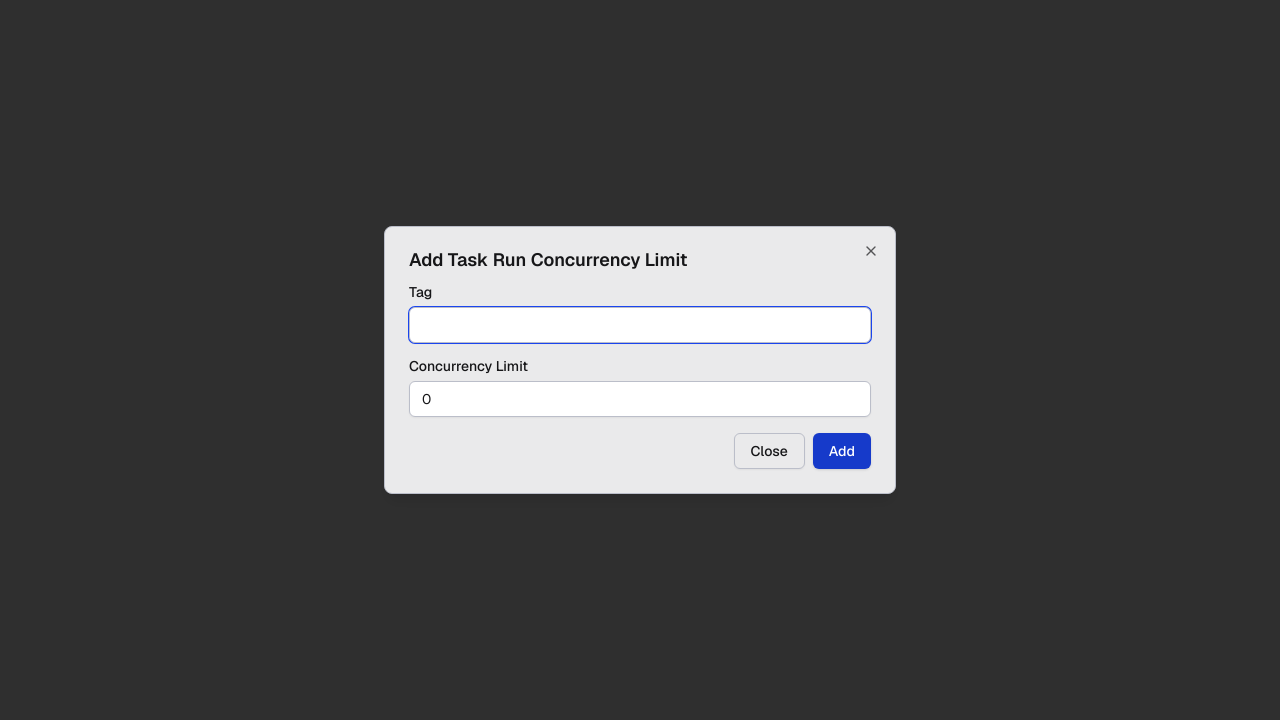
Scenario: TaskRunConcurrencyLimitsCreateDialog › shows validation error when concurrency limit is negative
Replace the text in the number field labelled "Concurrency Limit" with "-5": coordinates (640, 399) [409,381,871,417]
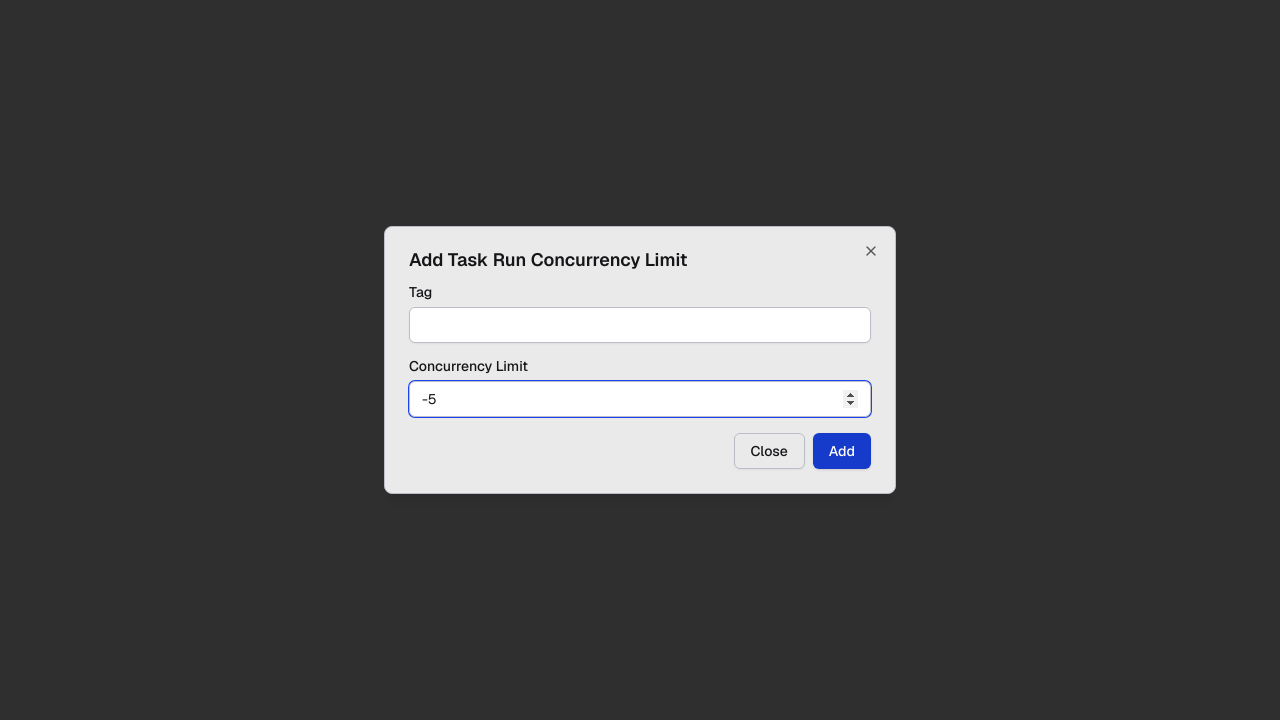
In the field labelled "Tag": coordinates (640, 325) [409,307,871,343], type "my-tag"
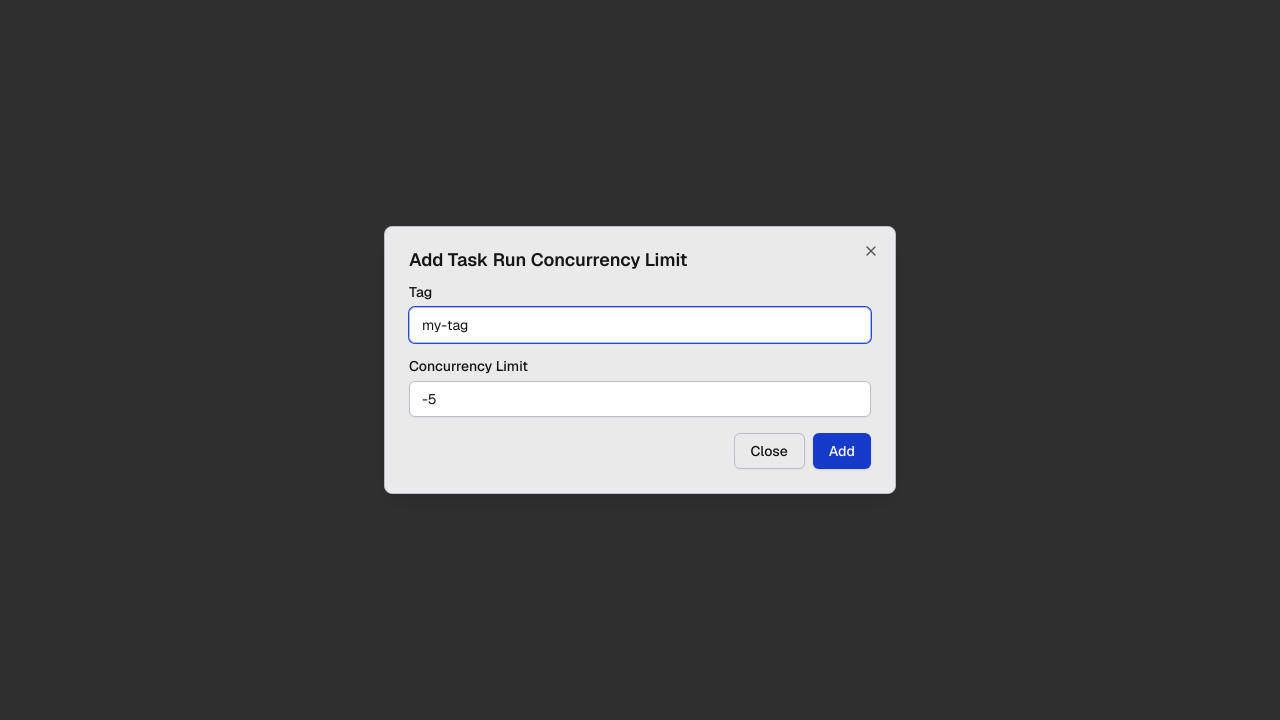
Click the button "Add": coordinates (842, 451) [813,433,871,469]
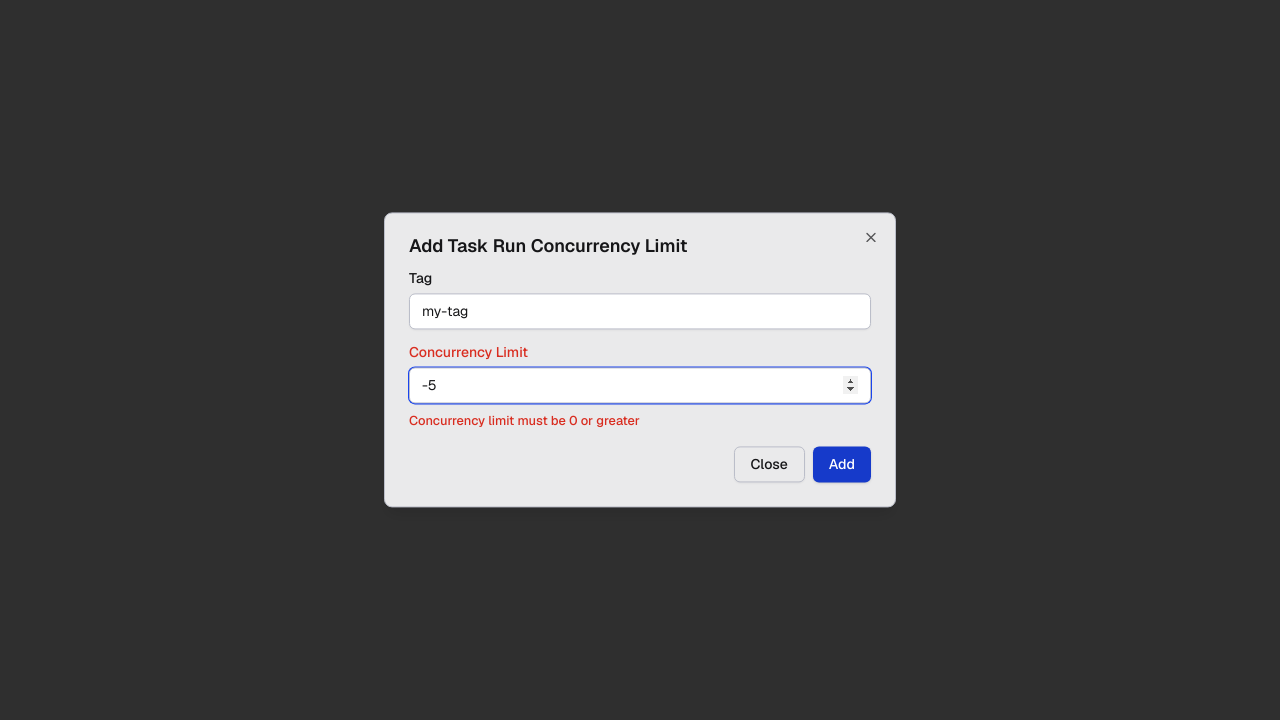
Result: the text "Concurrency limit must be 0 or greater" is shown at [409,412,640,429]
